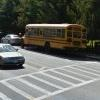Crosswalk: (11, 65, 99, 100)
